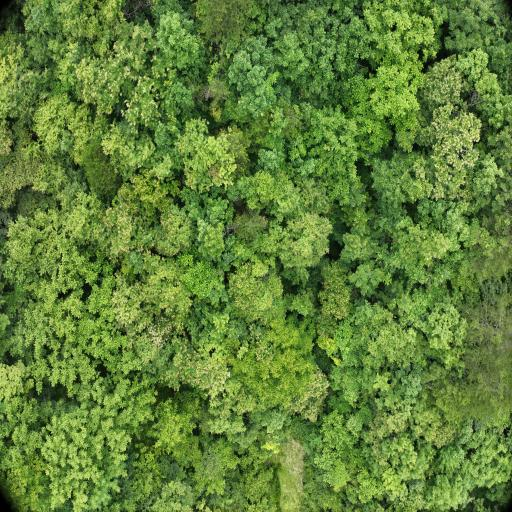dead-tree: (203, 90, 210, 103), (235, 200, 243, 208), (225, 228, 232, 236)
